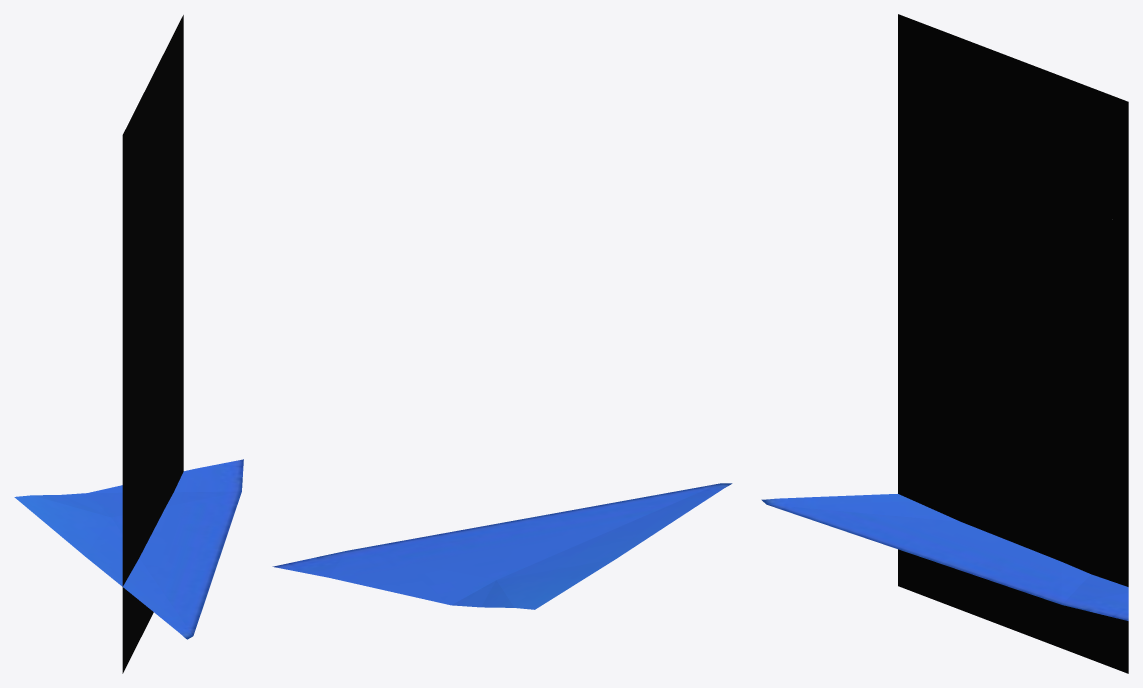
3 renders of one model, left to right at view 1: azimuth 30°, elevation 25°; view 2: azimuth 150°, elevation 25°; view 3: azimuth 270°, elevation 25°, orthographic. The views are drawn at different scales.
Bounding box in the file's own units: 4.01 × 9 × 5.24.
2 materials, 2 textured.
